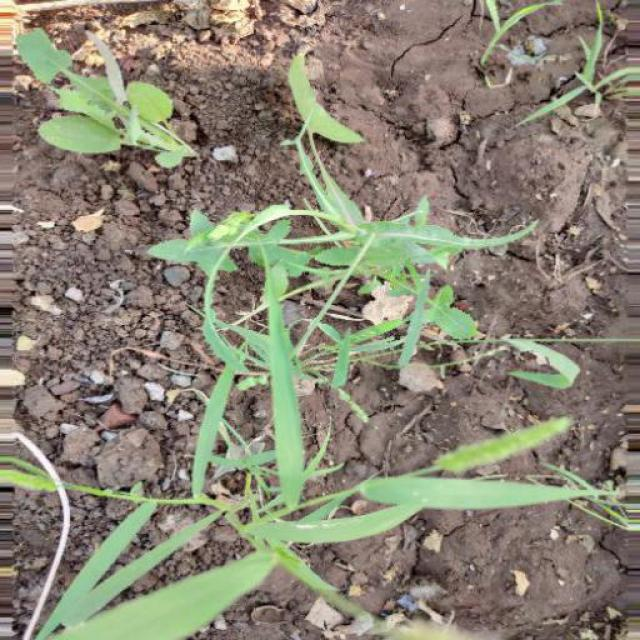weed: (172, 203, 514, 478), (11, 20, 225, 178)
